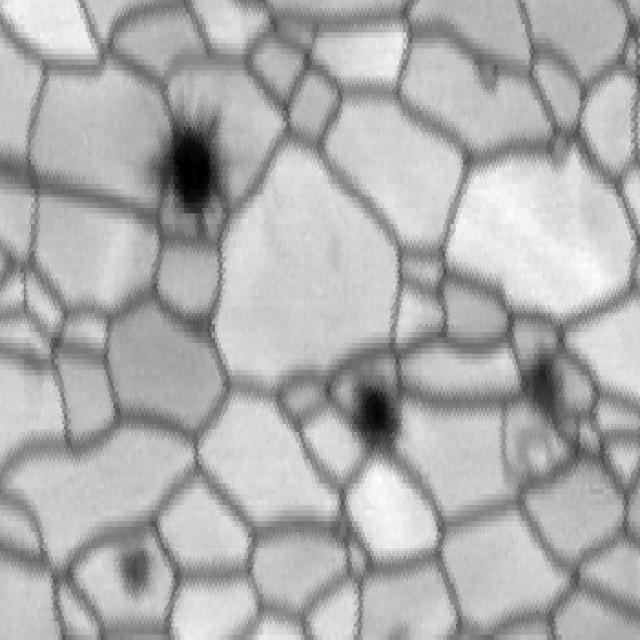good_void: (137, 103, 234, 229), (348, 370, 403, 452), (513, 350, 562, 440), (117, 545, 155, 598)
